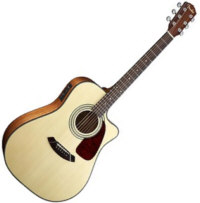guitar: (2, 2, 196, 202)
